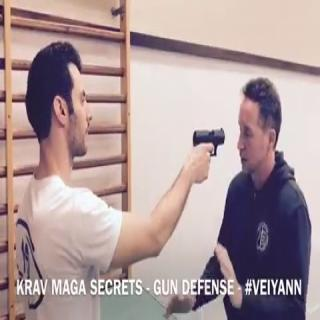gun: (188, 114, 228, 174)
